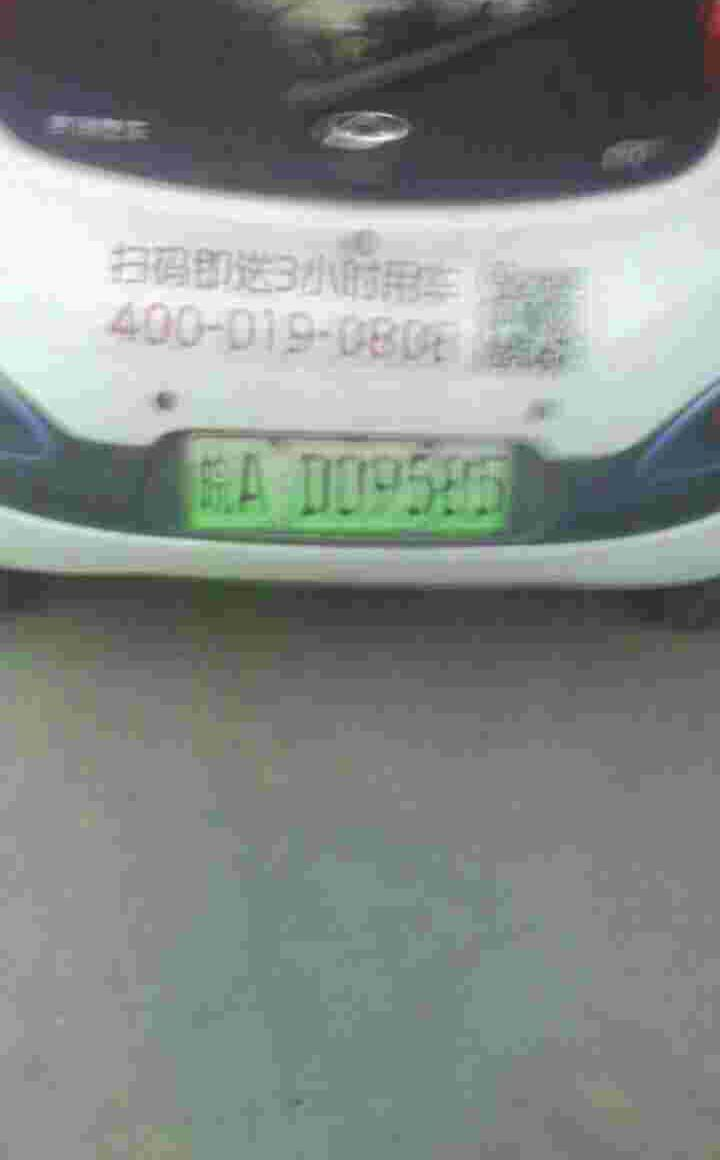car_id: (182, 435, 515, 536)
